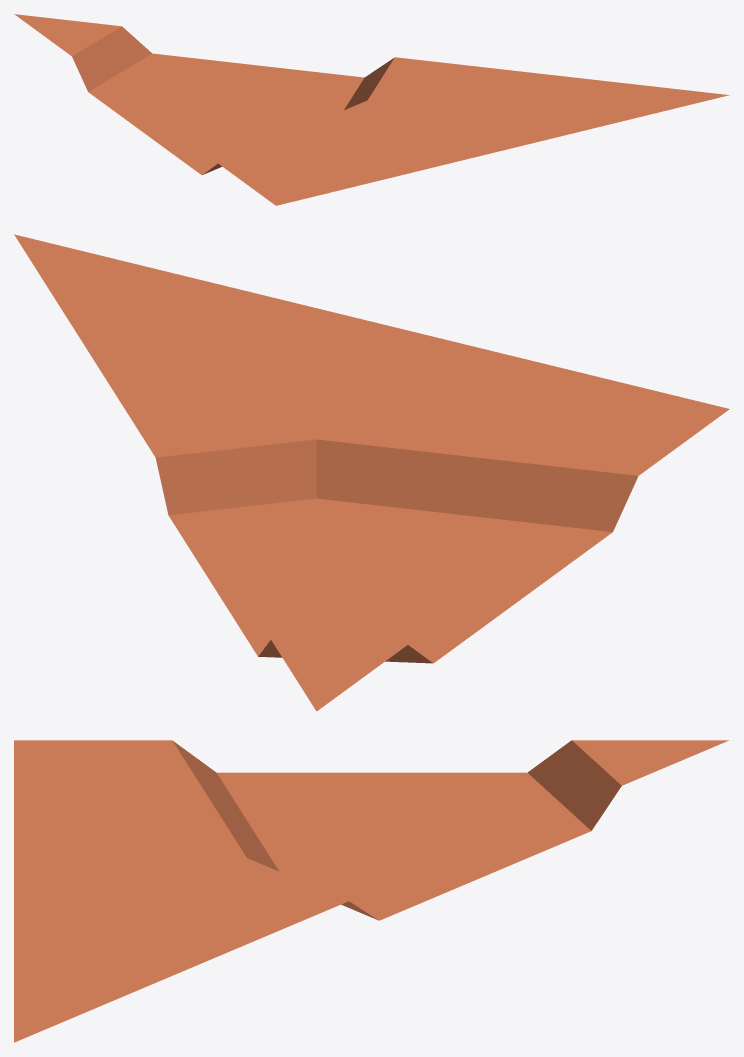
Rendered from ground_pathBend_lane_halfNE.fbx.
3 renders of one model, top to bottom at view 1: azimuth 30°, elevation 25°; view 2: azimuth 150°, elevation 25°; view 3: azimuth 270°, elevation 25°, orthographic. The views are drawn at different scales.
Visible parts, largest first — view 1: ground_pathBend; view 2: ground_pathBend; view 3: ground_pathBend.
Boxes of the visible parts, <box> form: ground_pathBend: <box>14,14,729,205</box>; ground_pathBend: <box>14,234,729,711</box>; ground_pathBend: <box>14,740,728,1042</box>.
Size of the model in its own units: 10 by 0.5 by 10.
